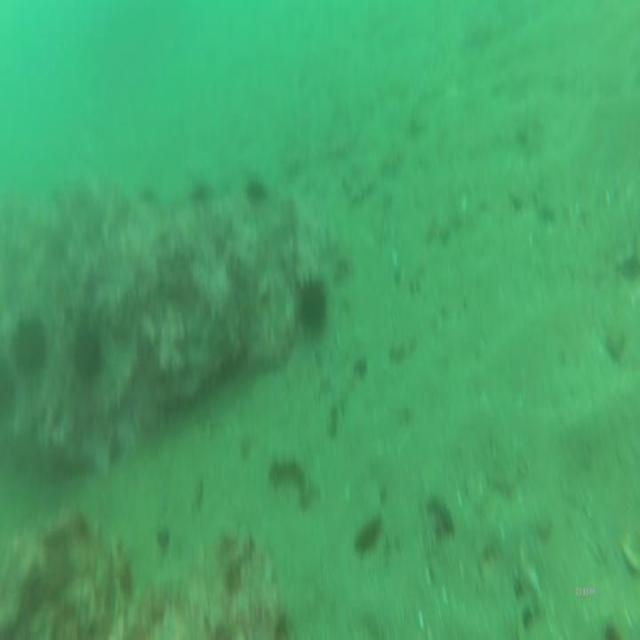echinus: (65, 308, 115, 387), (289, 259, 333, 343), (5, 306, 51, 374)
